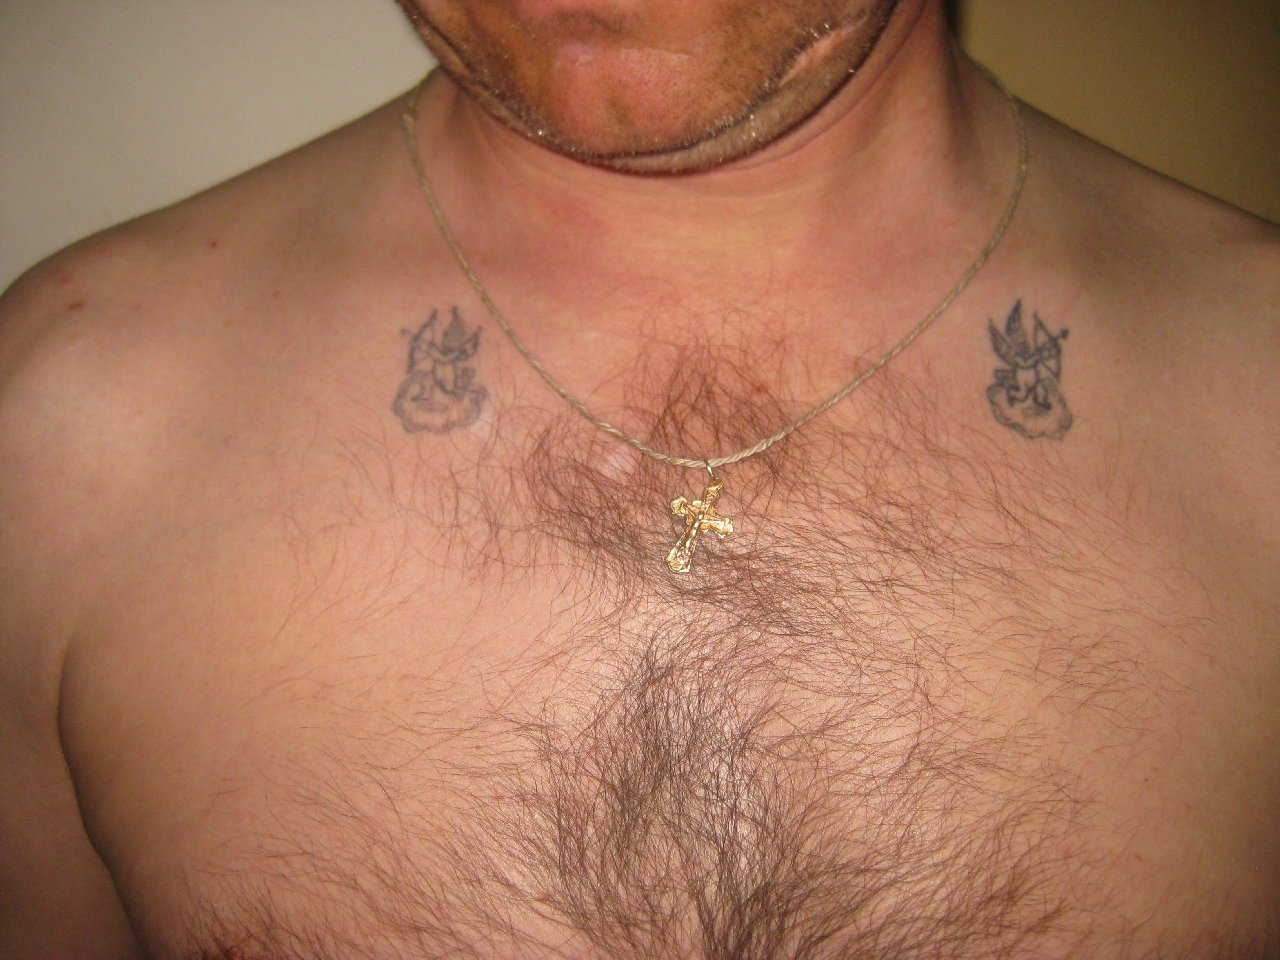tatu1_angel: (974, 293, 1090, 457), (389, 299, 500, 445)
